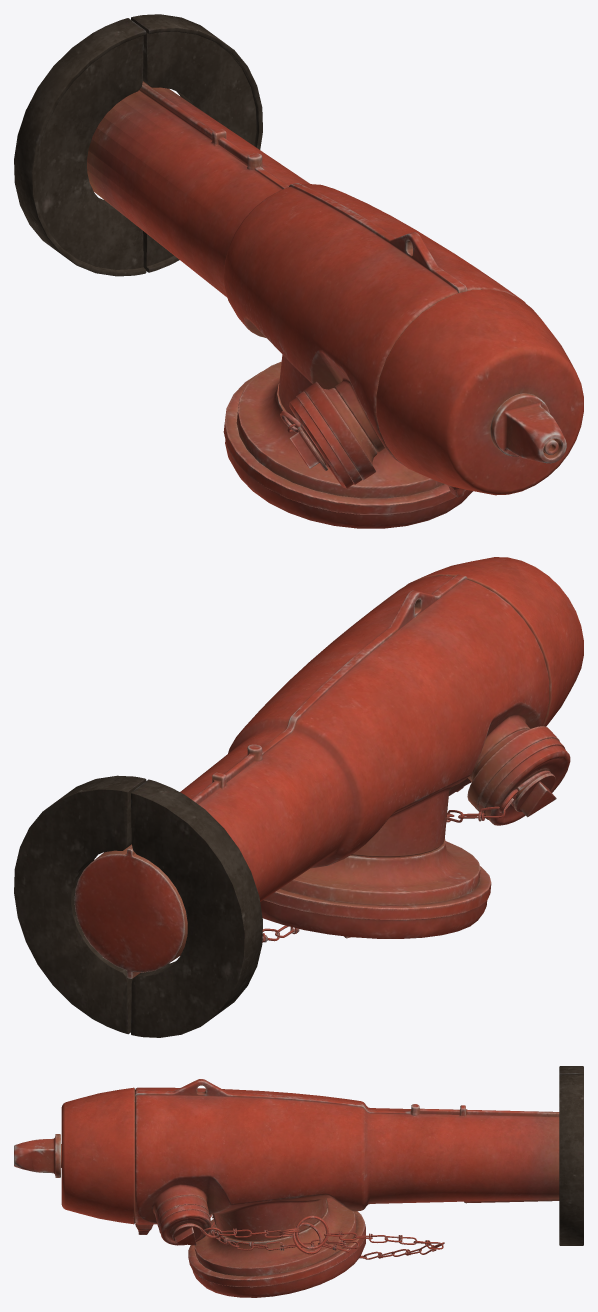
3 renders of one model, top to bottom at view 1: azimuth 30°, elevation 25°; view 2: azimuth 150°, elevation 25°; view 3: azimuth 270°, elevation 25°, orthographic. The views are drawn at different scales.
Visible parts, largest first — view 1: fire_hydrant; view 2: fire_hydrant, fire_hydrant_chain; view 3: fire_hydrant, fire_hydrant_chain.
Boxes of the visible parts, x1=… form: fire_hydrant: x1=14, y1=14, x2=583, y2=528; fire_hydrant: x1=14, y1=557, x2=583, y2=1037; fire_hydrant_chain: x1=262, y1=770, x2=551, y2=942; fire_hydrant: x1=14, y1=1066, x2=583, y2=1297; fire_hydrant_chain: x1=174, y1=1214, x2=444, y2=1259.
Bounding box in the file's own units: 0.2746 × 0.3177 × 0.7995.
Materials: 1 (1 with a texture image).
